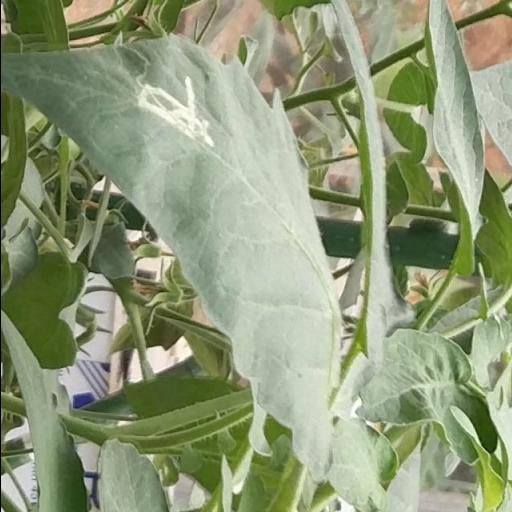disease_tomato: (0, 36, 348, 484)
